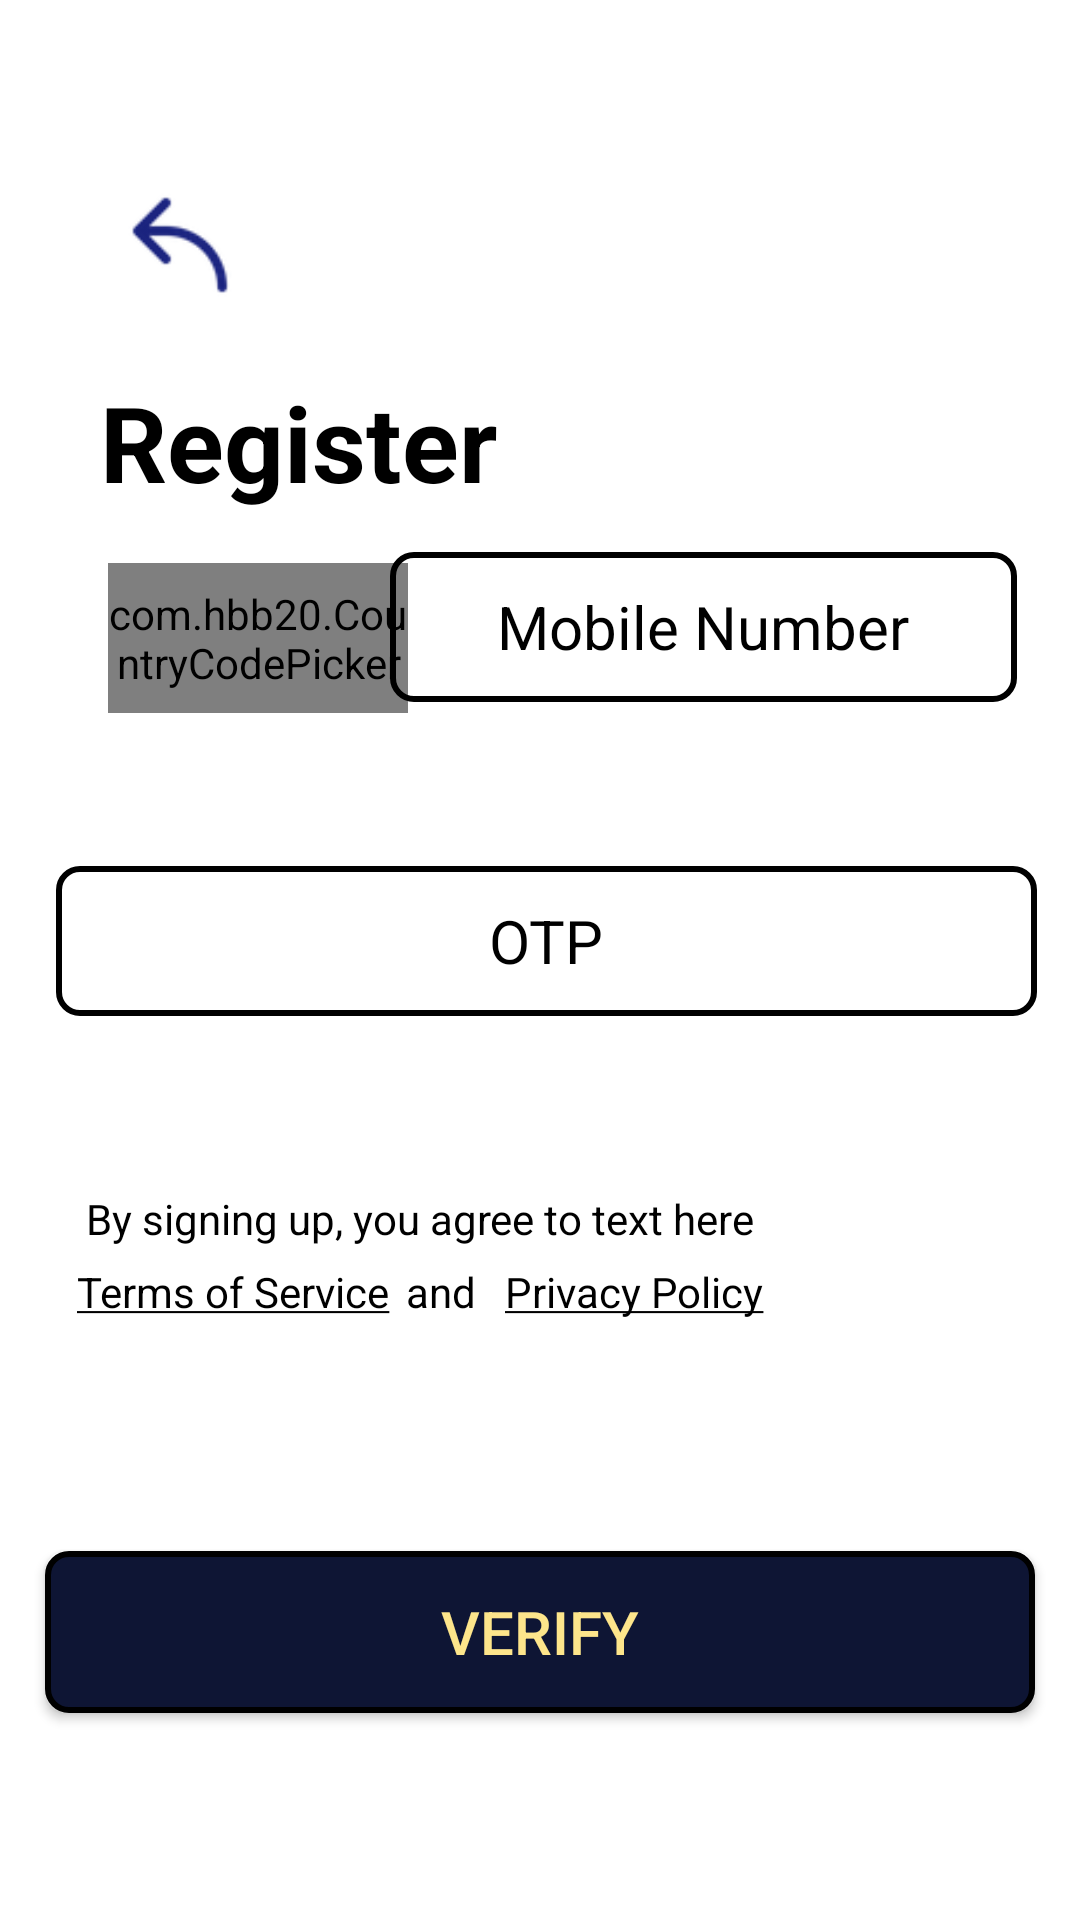

Screen size 1080 × 1920. Icon name, then its center in pixels as [x,y]:
backarrow: [180,245]
